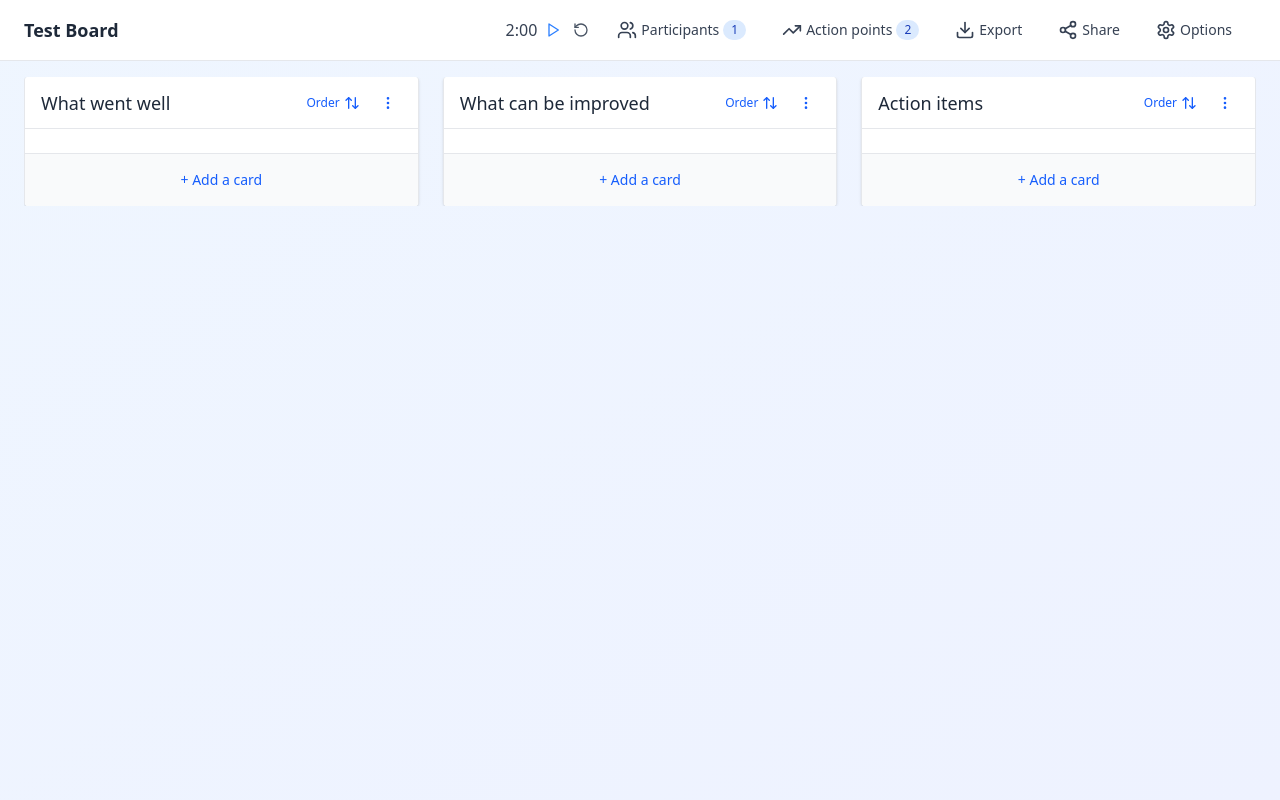
Timer Functionality › reverts timer input to last valid time on invalid entry (Enter)
The image size is (1280, 800).
// First click on the timer to make it editable
Click the text "2:00" at (522, 30), box top-left (506, 19), bottom-right (537, 41)
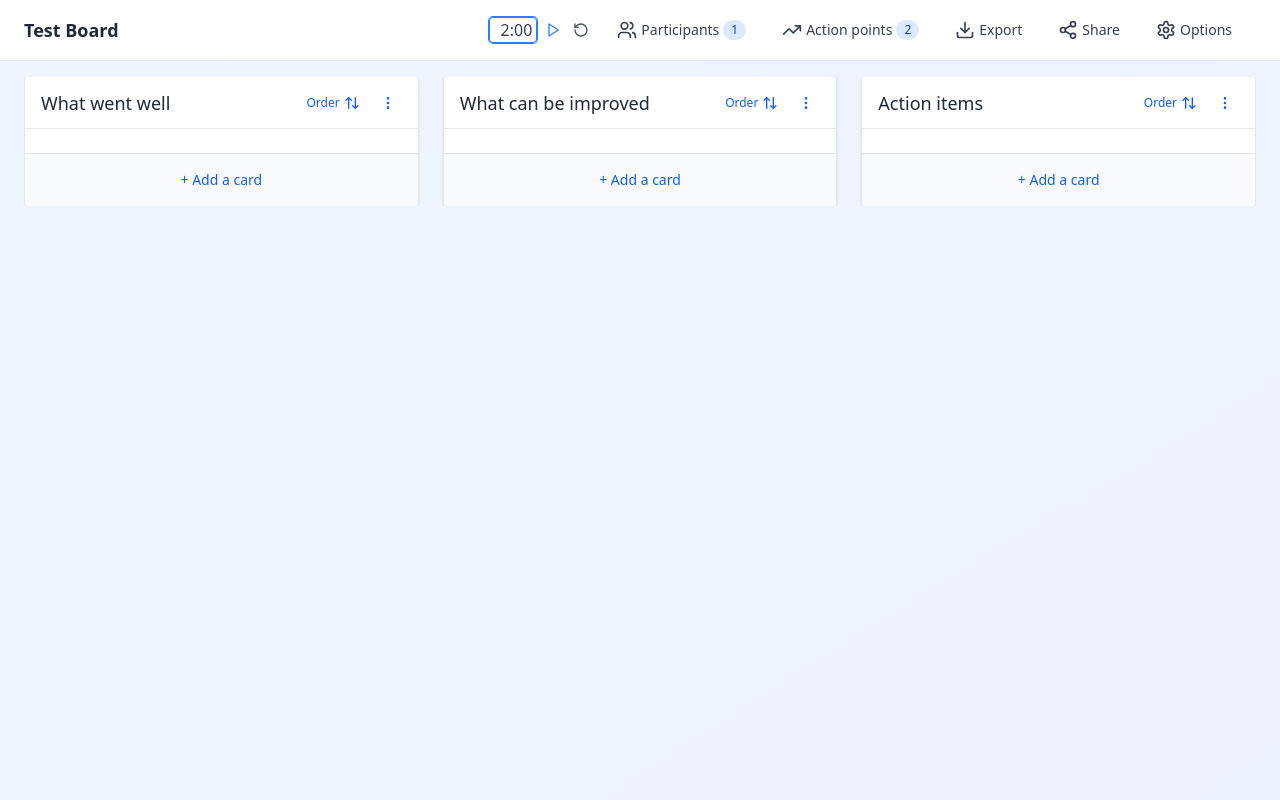
Replace the text in the field showing "2:00" with "abc" at (513, 30), box top-left (489, 17), bottom-right (537, 43)
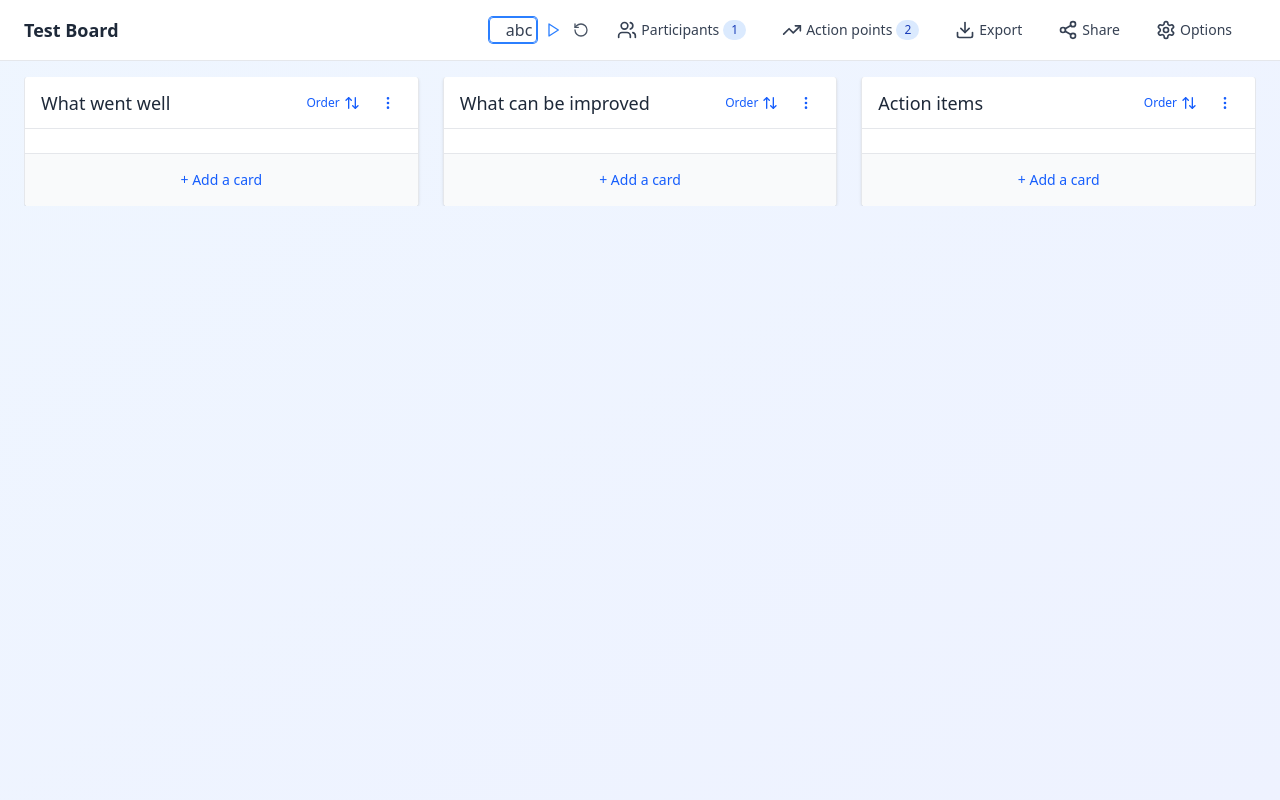
Press Enter in the field showing "2:00", box top-left (489, 17), bottom-right (537, 43)
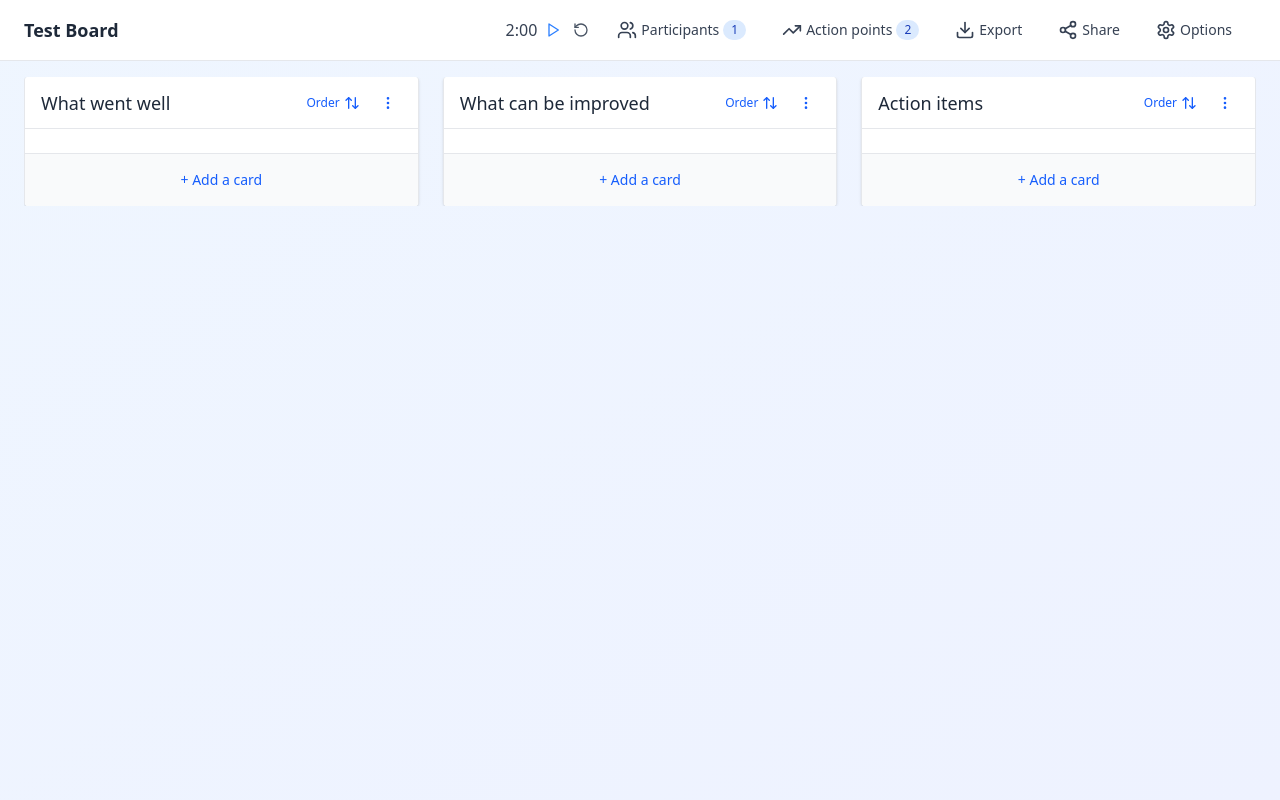
Check: the field is gone
Check: the text "2:00" is shown, box top-left (506, 19), bottom-right (537, 41)
